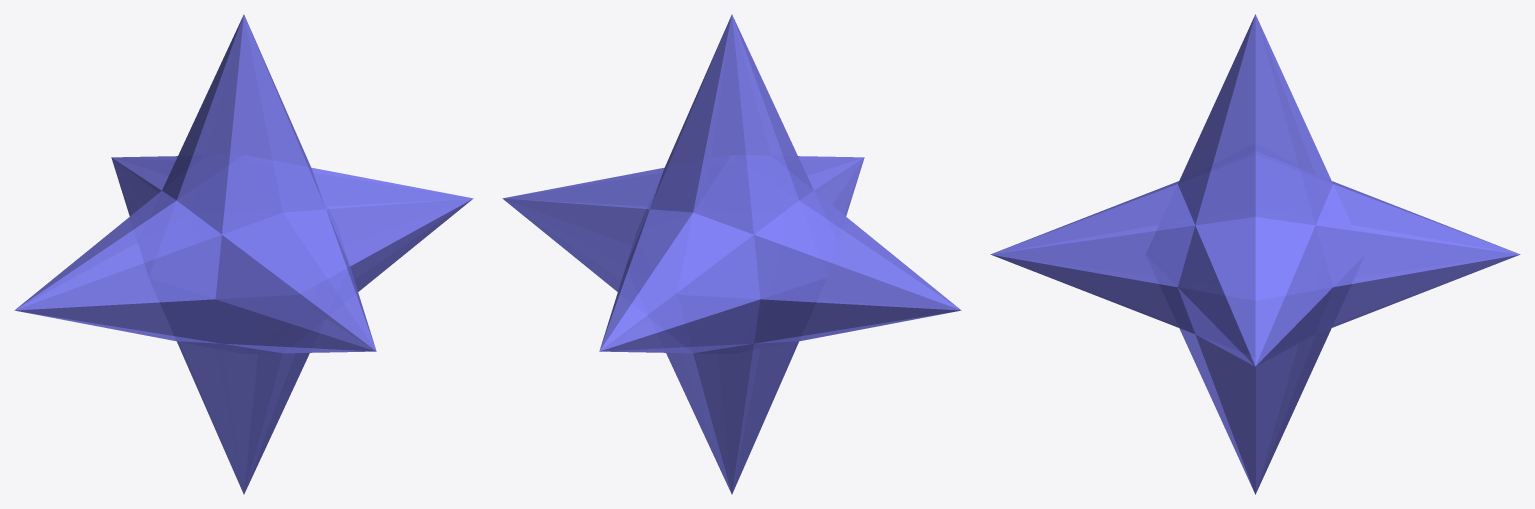
The model's file is SmallHexacronicIcositetrahedron.obj.
The picture shows the model from 3 angles, left to right: view 1: azimuth 30°, elevation 25°; view 2: azimuth 150°, elevation 25°; view 3: azimuth 270°, elevation 25°; orthographic projection.
Bounding box in the file's own units: 6.83 × 6.83 × 6.83.
